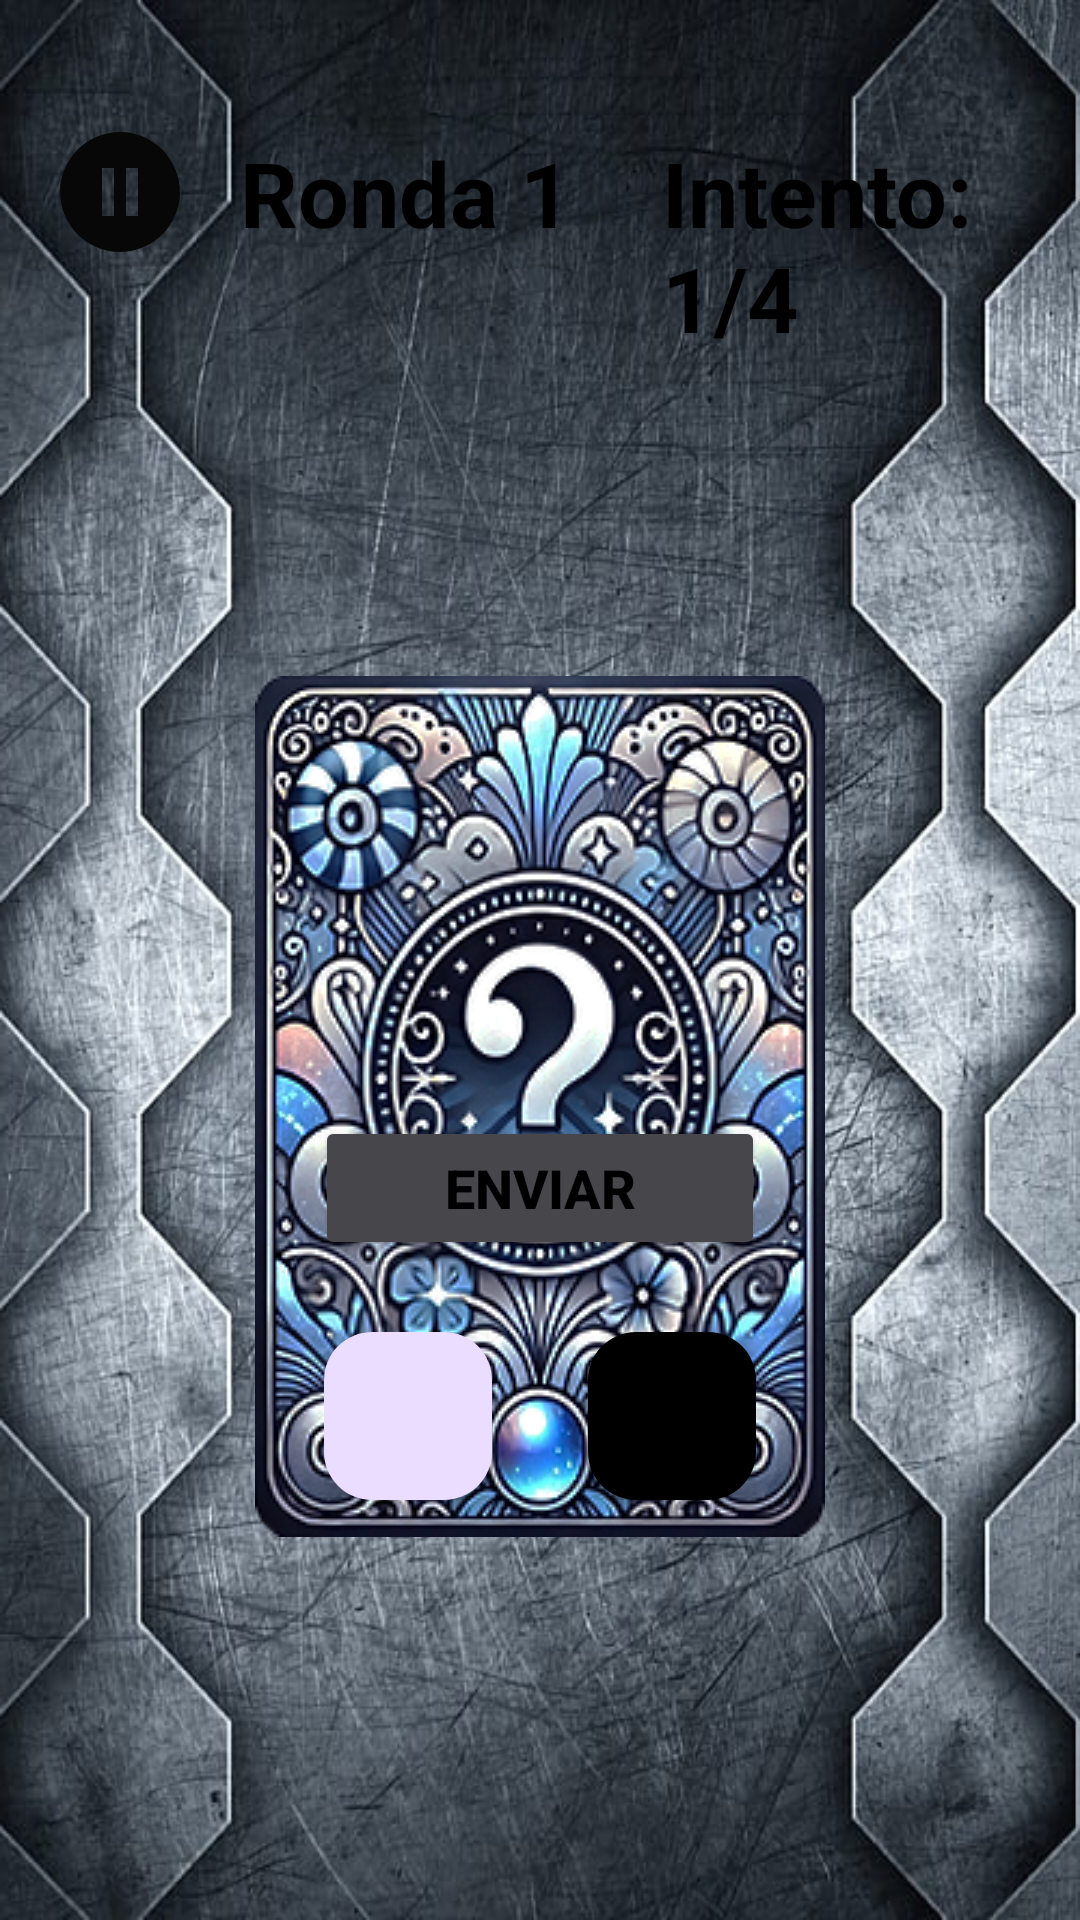

Icon click points for this 1080px x 1920px phone screenshot, format (x=x, y=y):
Pause: (x=120, y=192)
